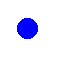circle: (17, 18, 37, 38)
